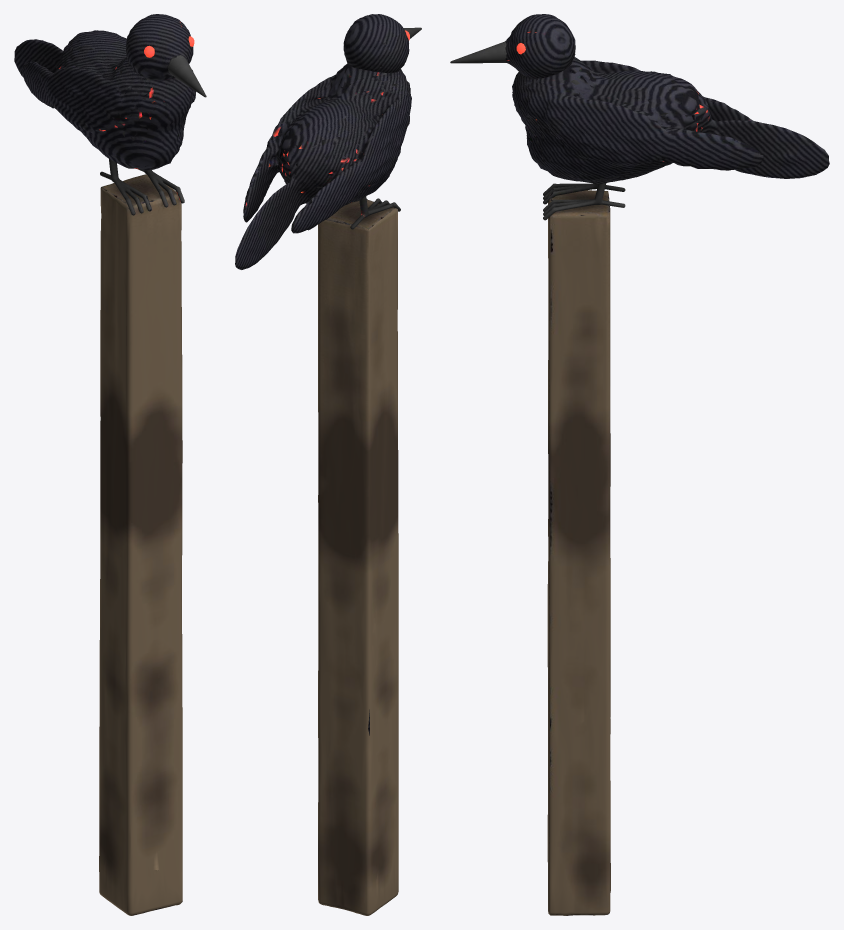
Rendered from crow_post.glb.
The picture shows the model from 3 angles, left to right: view 1: azimuth 30°, elevation 25°; view 2: azimuth 150°, elevation 25°; view 3: azimuth 270°, elevation 25°; orthographic projection. The views are drawn at different scales.
Visible parts, largest first — view 1: Crow_Post, Crow_Body, Crow_Head, Crow_Feet, Crow_Beak; view 2: Crow_Post, Crow_Body, Crow_Head, Crow_Feet; view 3: Crow_Post, Crow_Body, Crow_Head, Crow_Feet.
Boxes of the visible parts, bbox=[...] form: Crow_Post: bbox=[99, 174, 182, 915]; Crow_Body: bbox=[14, 30, 195, 170]; Crow_Head: bbox=[126, 14, 193, 80]; Crow_Feet: bbox=[100, 159, 184, 215]; Crow_Beak: bbox=[167, 55, 206, 97]; Crow_Post: bbox=[318, 200, 398, 915]; Crow_Body: bbox=[235, 63, 411, 269]; Crow_Head: bbox=[343, 14, 409, 72]; Crow_Feet: bbox=[350, 196, 400, 229]; Crow_Post: bbox=[547, 190, 610, 915]; Crow_Body: bbox=[512, 56, 829, 183]; Crow_Head: bbox=[505, 14, 575, 78]; Crow_Feet: bbox=[543, 183, 625, 220].
Bounding box in the file's own units: 0.1885 × 1.56 × 0.6065.
Materials: 1 (1 with a texture image).
